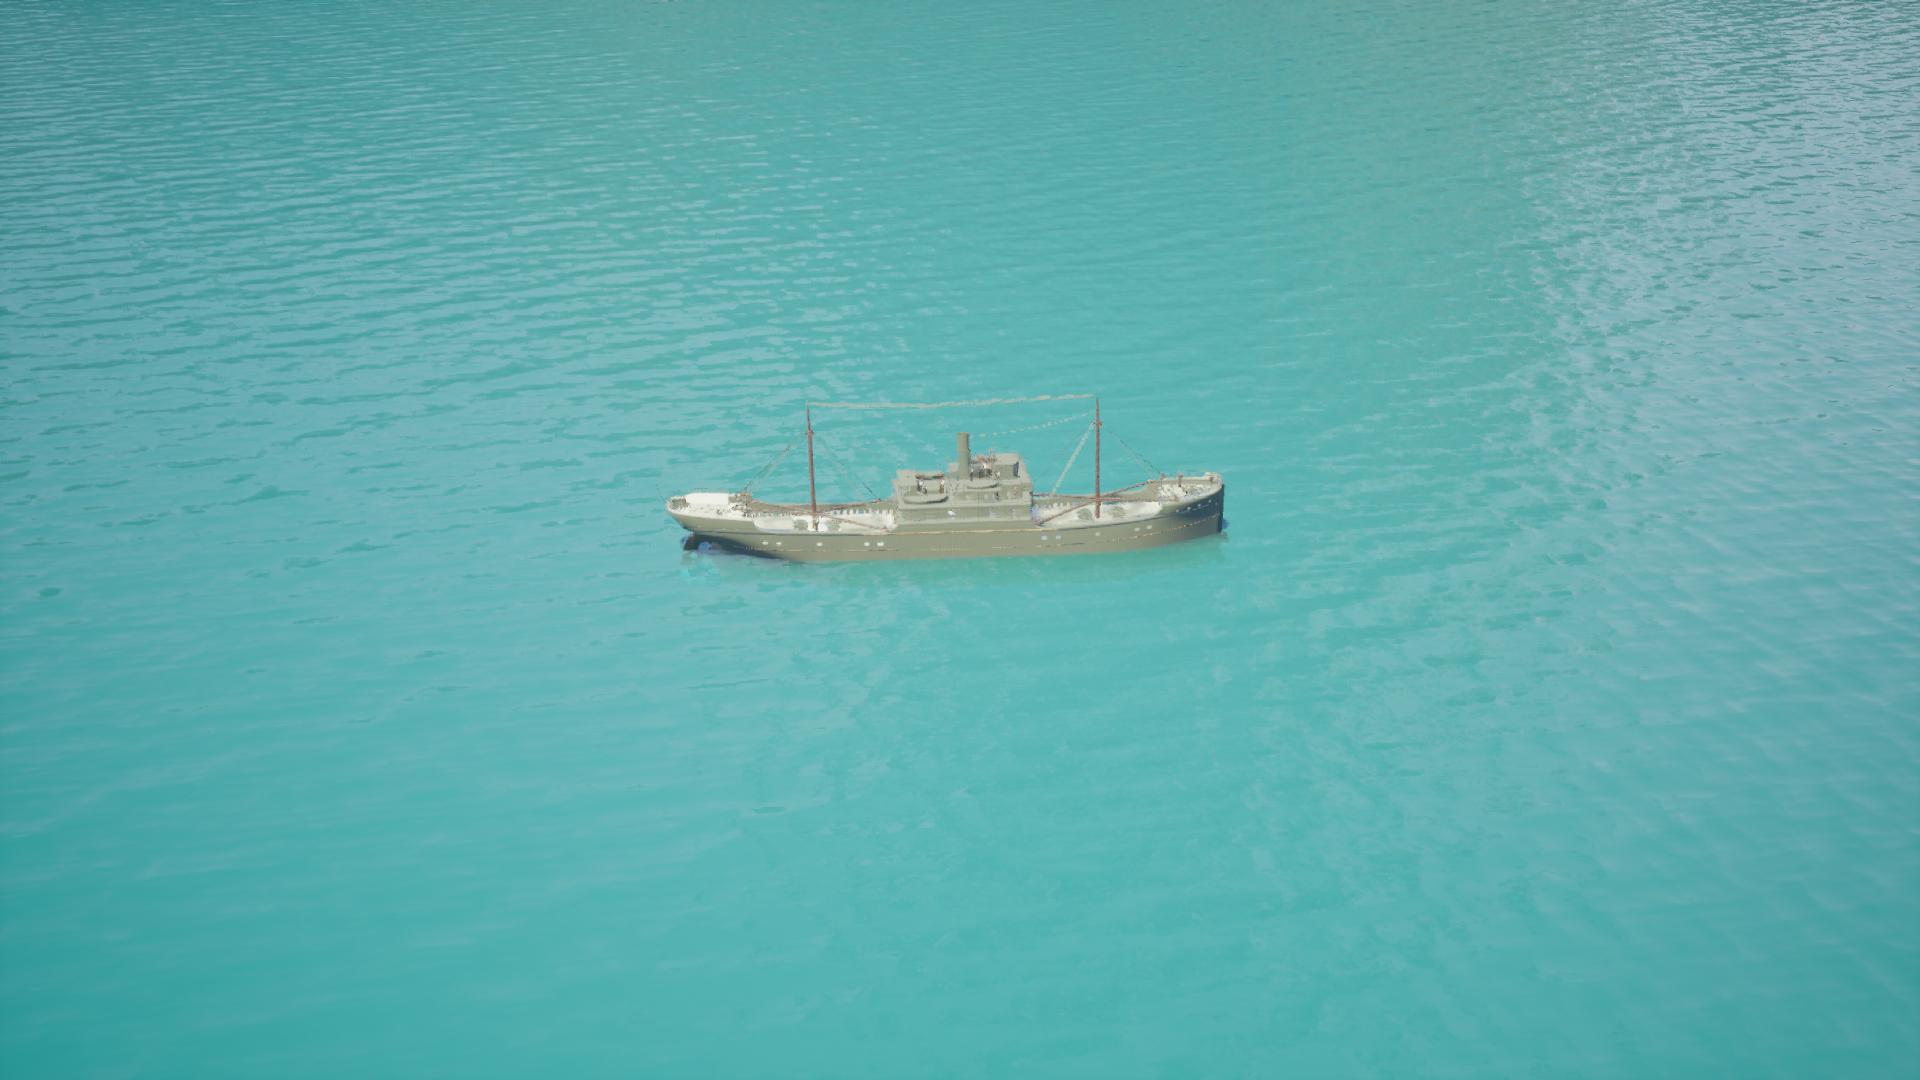Fishing Boat: (670, 392, 1229, 570)
